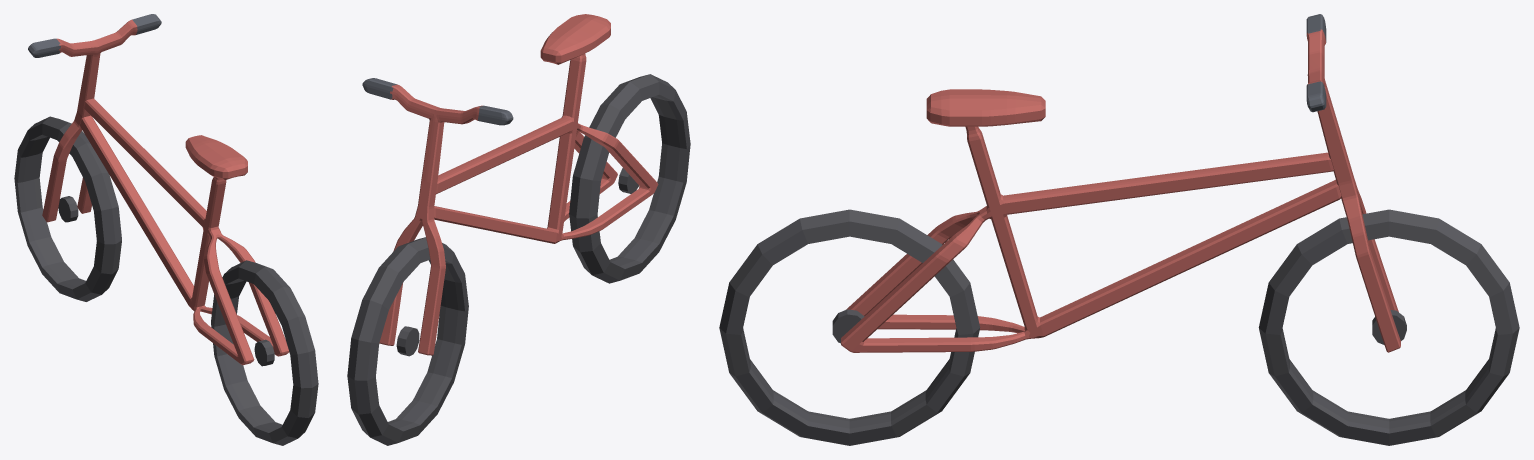
The model's file is Bicycle.glb.
3 renders of one model, left to right at view 1: azimuth 30°, elevation 25°; view 2: azimuth 150°, elevation 25°; view 3: azimuth 270°, elevation 25°, orthographic. The views are drawn at different scales.
Visible parts, largest first — view 1: Bicycle.obj; view 2: Bicycle.obj; view 3: Bicycle.obj.
Part boxes in pixels (left/top/right/bottom): Bicycle.obj: left=14, top=14, right=318, bottom=445; Bicycle.obj: left=347, top=14, right=690, bottom=445; Bicycle.obj: left=719, top=14, right=1519, bottom=445.
Bounding box in the file's own units: 1.49 × 3.15 × 5.83.
